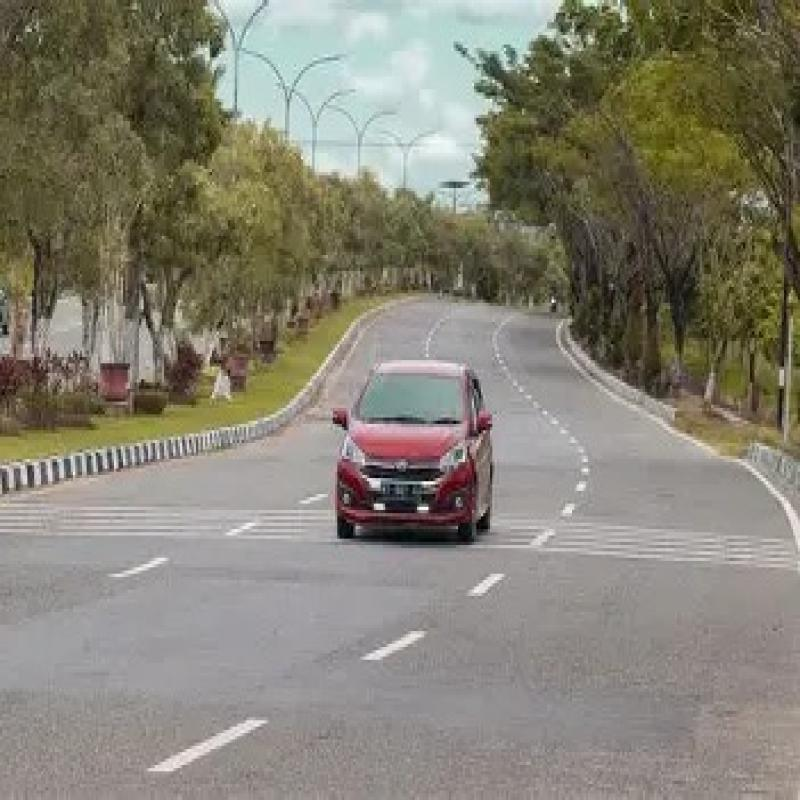license plate on a car: (380, 478, 423, 508)
